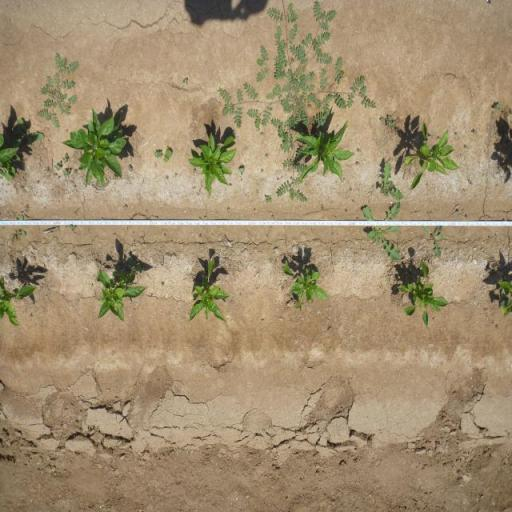plant: (404, 118, 458, 192), (396, 259, 450, 330), (76, 102, 128, 174), (300, 124, 354, 182), (188, 132, 234, 199), (186, 255, 229, 324), (282, 257, 330, 314), (97, 274, 147, 324), (0, 274, 37, 329), (0, 135, 18, 182)
weed: (216, 0, 377, 126), (36, 51, 80, 130), (361, 201, 403, 263), (13, 115, 45, 148), (378, 161, 404, 201), (421, 225, 444, 259), (112, 256, 144, 280), (154, 145, 172, 163), (378, 113, 398, 129), (8, 230, 22, 244), (18, 214, 26, 238), (500, 289, 510, 306), (493, 100, 502, 112), (62, 168, 72, 178), (264, 193, 273, 204), (54, 162, 62, 172), (230, 131, 238, 140), (62, 153, 69, 163), (182, 77, 190, 85), (239, 166, 245, 176), (68, 225, 77, 231), (427, 210, 434, 217), (454, 130, 460, 138), (470, 128, 478, 134), (164, 174, 170, 181), (264, 152, 270, 159), (128, 164, 133, 172), (260, 130, 266, 136), (436, 134, 442, 140), (44, 168, 50, 173), (260, 168, 265, 174), (357, 148, 362, 154), (464, 144, 469, 150), (53, 172, 58, 177), (74, 168, 78, 174), (123, 204, 127, 210), (74, 209, 78, 215), (227, 206, 230, 214), (160, 281, 164, 287), (174, 172, 178, 177), (464, 213, 468, 218), (192, 168, 195, 174), (321, 204, 324, 210), (352, 198, 355, 204), (112, 176, 116, 180), (345, 208, 348, 213), (272, 214, 274, 220), (356, 161, 359, 165), (457, 210, 460, 214), (198, 217, 202, 220), (350, 188, 352, 190), (204, 216, 206, 218)
